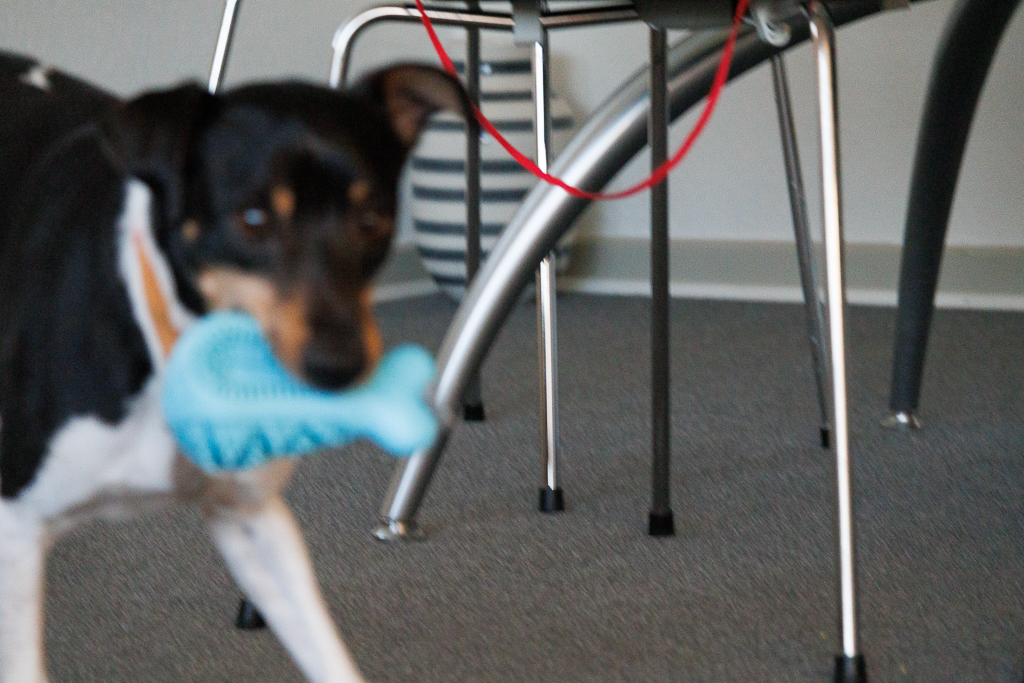Dog: (0, 36, 491, 682)
